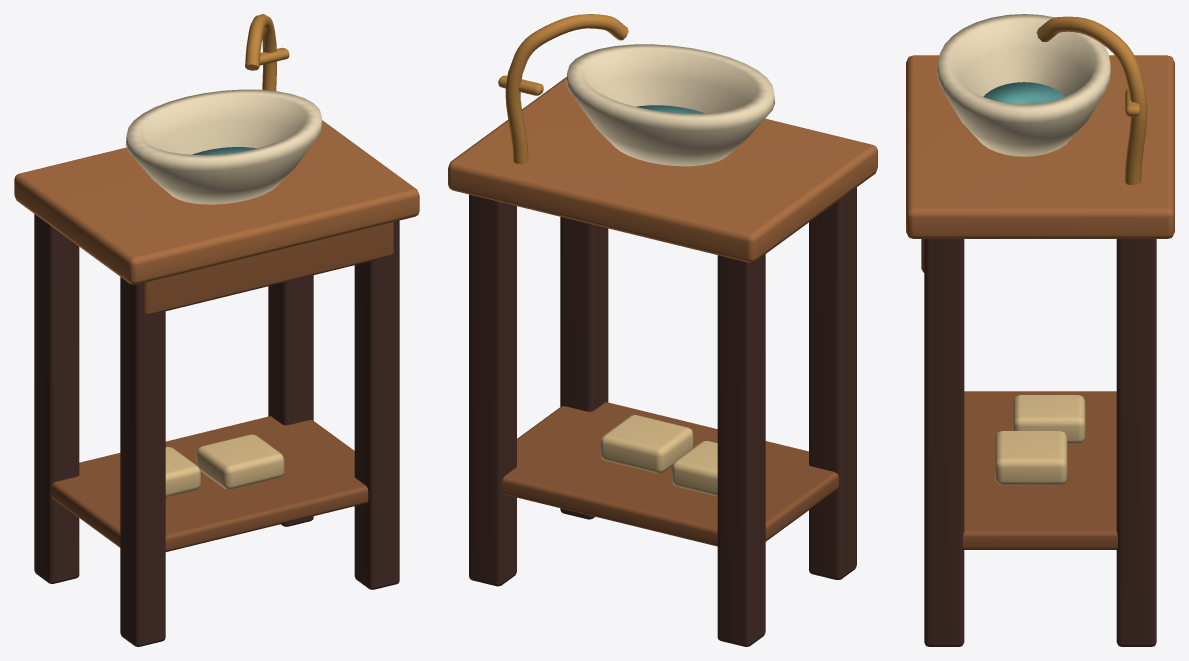
File: bath-vanity.glb
The picture shows the model from 3 angles, left to right: view 1: azimuth 30°, elevation 25°; view 2: azimuth 150°, elevation 25°; view 3: azimuth 270°, elevation 25°; orthographic projection. The views are drawn at different scales.
Visible parts, largest first — view 1: bath_vanity_placement_Mesh; view 2: bath_vanity_placement_Mesh; view 3: bath_vanity_placement_Mesh.
Boxes of the visible parts, left/top/right/bottom form: bath_vanity_placement_Mesh: left=14, top=14, right=419, bottom=646; bath_vanity_placement_Mesh: left=448, top=14, right=877, bottom=646; bath_vanity_placement_Mesh: left=906, top=14, right=1174, bottom=646.
Bounding box in the file's own units: 0.6 × 1.04 × 0.43.
